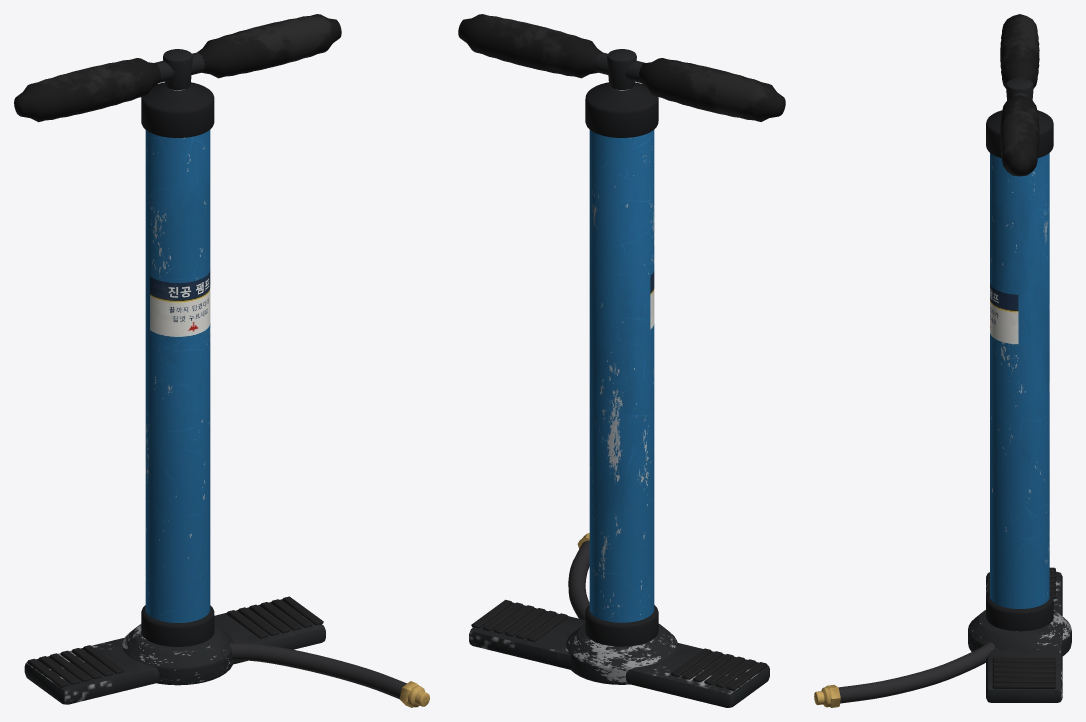
The model's file is pump.glb.
3 views of the same model, side by side, from view 1: azimuth 30°, elevation 25°; view 2: azimuth 150°, elevation 25°; view 3: azimuth 270°, elevation 25° (orthographic). The views are drawn at different scales.
Visible parts, largest first — view 1: pump_barrel, handle_grips, pump_foot, pump_caps, pump_tread, pump_hose, handle_bar; view 2: pump_barrel, handle_grips, pump_foot, pump_caps, pump_tread, handle_bar, pump_hose; view 3: pump_barrel, handle_grips, pump_foot, pump_caps, pump_hose, pump_tread, handle_bar, pump_coupler.
Boxes of the visible parts, bbox=[...] form: pump_barrel: bbox=[145, 130, 210, 622]; handle_grips: bbox=[14, 14, 341, 122]; pump_foot: bbox=[24, 599, 325, 704]; pump_caps: bbox=[141, 82, 214, 646]; pump_tread: bbox=[27, 596, 323, 687]; pump_hose: bbox=[229, 642, 406, 698]; handle_bar: bbox=[154, 49, 205, 90]; pump_barrel: bbox=[589, 130, 654, 622]; handle_grips: bbox=[458, 14, 785, 121]; pump_foot: bbox=[469, 602, 769, 707]; pump_caps: bbox=[585, 82, 658, 646]; pump_tread: bbox=[471, 599, 767, 690]; handle_bar: bbox=[594, 49, 644, 89]; pump_hose: bbox=[568, 540, 589, 619]; pump_barrel: bbox=[990, 153, 1049, 608]; handle_grips: bbox=[1000, 14, 1039, 176]; pump_foot: bbox=[968, 571, 1071, 702]; pump_caps: bbox=[986, 110, 1053, 631]; pump_hose: bbox=[838, 642, 995, 703]; pump_tread: bbox=[992, 567, 1055, 688]; handle_bar: bbox=[1006, 77, 1033, 100]; pump_coupler: bbox=[814, 685, 840, 707].
Bounding box in the file's own units: 0.307 × 0.5564 × 0.228.
Materials: 9 (4 with a texture image).
